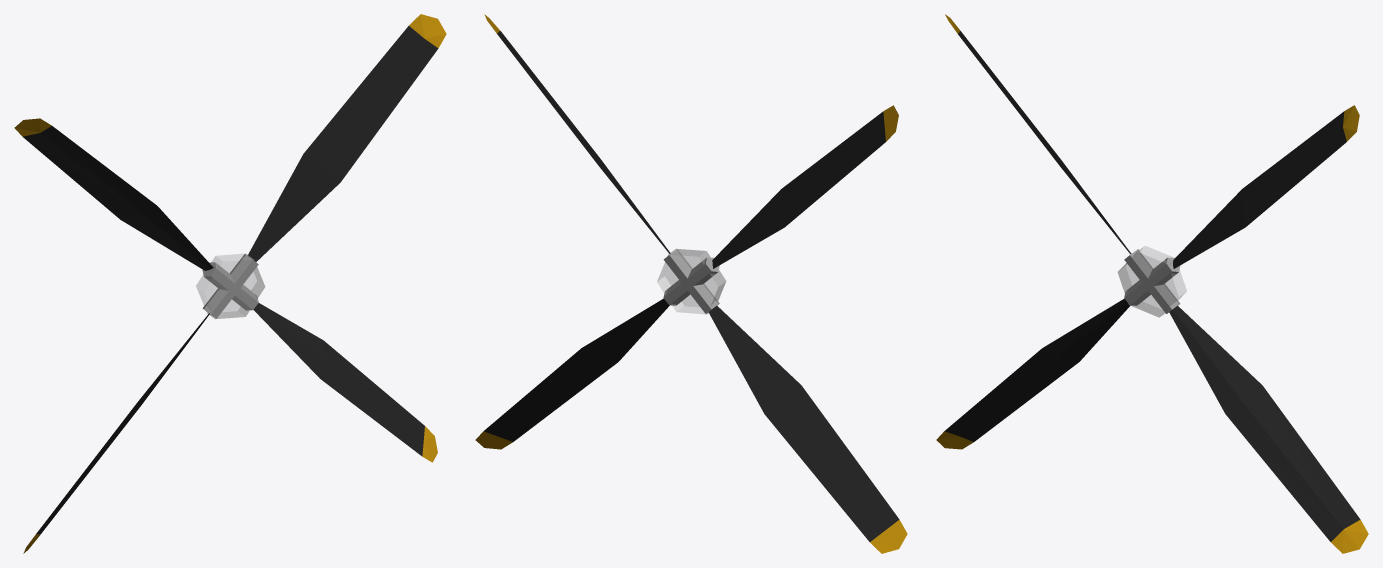
The model's file is Prop_B29NP.obj.
The picture shows the model from 3 angles, left to right: view 1: azimuth 30°, elevation 25°; view 2: azimuth 150°, elevation 25°; view 3: azimuth 330°, elevation 25°; orthographic projection.
Visible parts, largest first — view 1: ShapeIndexedFaceSet.233_ShapeIndexedFaceSet.234, ShapeIndexedFaceSet.245_ShapeIndexedFaceSet.246, ShapeIndexedFaceSet.232_ShapeIndexedFaceSet.233, ShapeIndexedFaceSet.234_ShapeIndexedFaceSet.235; view 2: ShapeIndexedFaceSet.233_ShapeIndexedFaceSet.234, ShapeIndexedFaceSet.232_ShapeIndexedFaceSet.233, ShapeIndexedFaceSet.234_ShapeIndexedFaceSet.235, ShapeIndexedFaceSet.245_ShapeIndexedFaceSet.246; view 3: ShapeIndexedFaceSet.233_ShapeIndexedFaceSet.234, ShapeIndexedFaceSet.245_ShapeIndexedFaceSet.246, ShapeIndexedFaceSet.232_ShapeIndexedFaceSet.233, ShapeIndexedFaceSet.234_ShapeIndexedFaceSet.235.
Boxes of the visible parts, left/top/right/bottom form: ShapeIndexedFaceSet.233_ShapeIndexedFaceSet.234: left=23, top=26, right=438, bottom=535; ShapeIndexedFaceSet.245_ShapeIndexedFaceSet.246: left=196, top=253, right=265, bottom=319; ShapeIndexedFaceSet.232_ShapeIndexedFaceSet.233: left=202, top=254, right=258, bottom=318; ShapeIndexedFaceSet.234_ShapeIndexedFaceSet.235: left=14, top=14, right=446, bottom=553; ShapeIndexedFaceSet.233_ShapeIndexedFaceSet.234: left=484, top=31, right=899, bottom=541; ShapeIndexedFaceSet.232_ShapeIndexedFaceSet.233: left=663, top=249, right=719, bottom=313; ShapeIndexedFaceSet.234_ShapeIndexedFaceSet.235: left=475, top=14, right=907, bottom=553; ShapeIndexedFaceSet.245_ShapeIndexedFaceSet.246: left=657, top=248, right=726, bottom=314; ShapeIndexedFaceSet.233_ShapeIndexedFaceSet.234: left=944, top=31, right=1360, bottom=541; ShapeIndexedFaceSet.245_ShapeIndexedFaceSet.246: left=1117, top=246, right=1186, bottom=317; ShapeIndexedFaceSet.232_ShapeIndexedFaceSet.233: left=1124, top=249, right=1180, bottom=313; ShapeIndexedFaceSet.234_ShapeIndexedFaceSet.235: left=936, top=14, right=1368, bottom=553.
Bounding box in the file's own units: 35.84 × 35.84 × 2.5.
